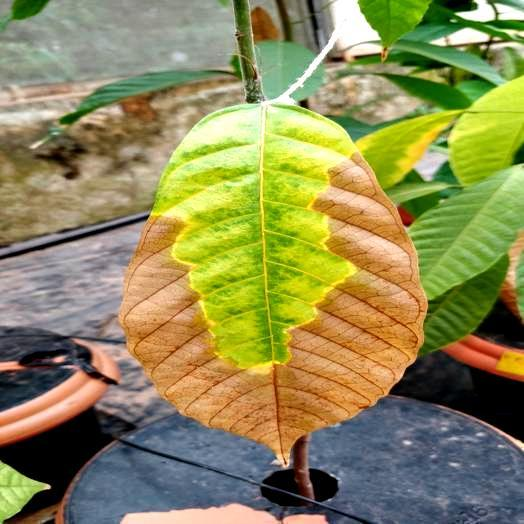Potassium: (120, 97, 426, 462)
